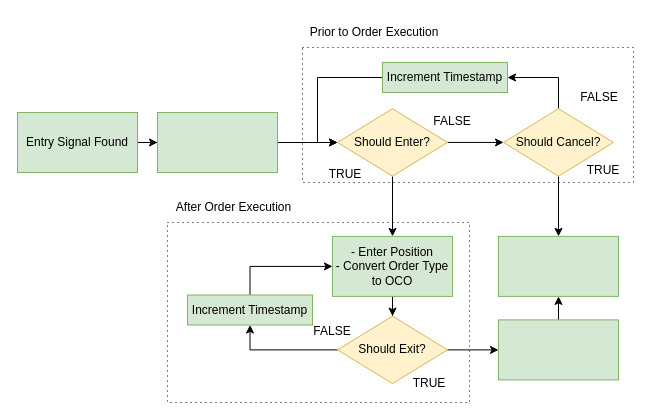
This 651x420 diagram has some shape labels left out. The centre of each missing label's shape, as x and y in pixels:
"Create Entry Order" belongs at pixel 217 142.
"Delete Order" belongs at pixel 558 265.
"Liquidate Position" belongs at pixel 558 349.
